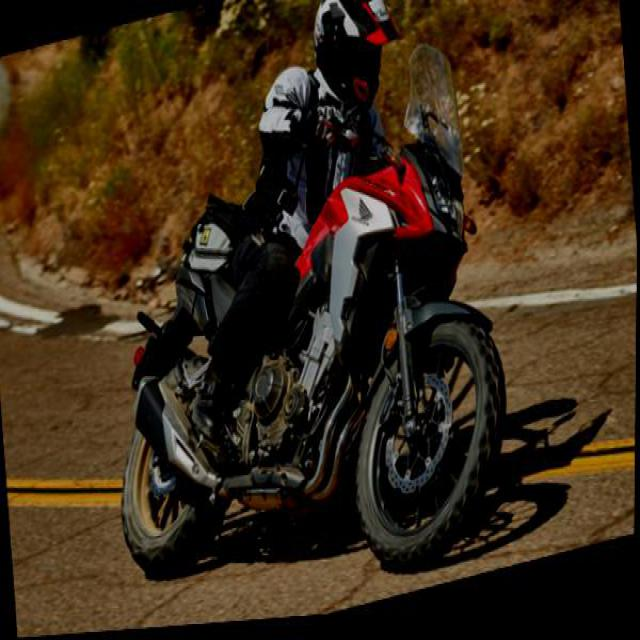CB500X: (92, 34, 526, 632)
